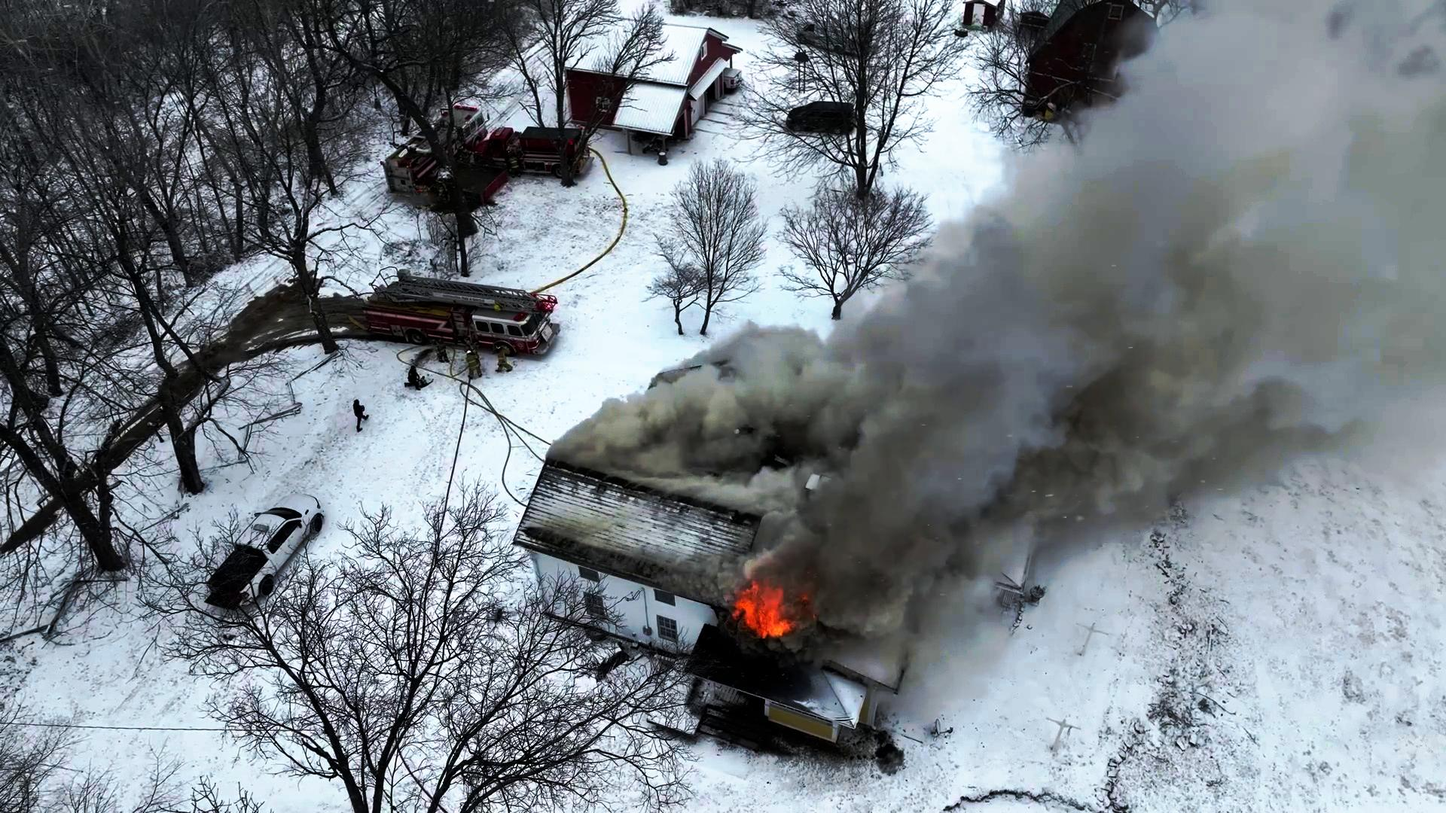fire: (723, 572, 814, 637)
smoke: (972, 236, 1197, 478), (605, 379, 930, 518)
